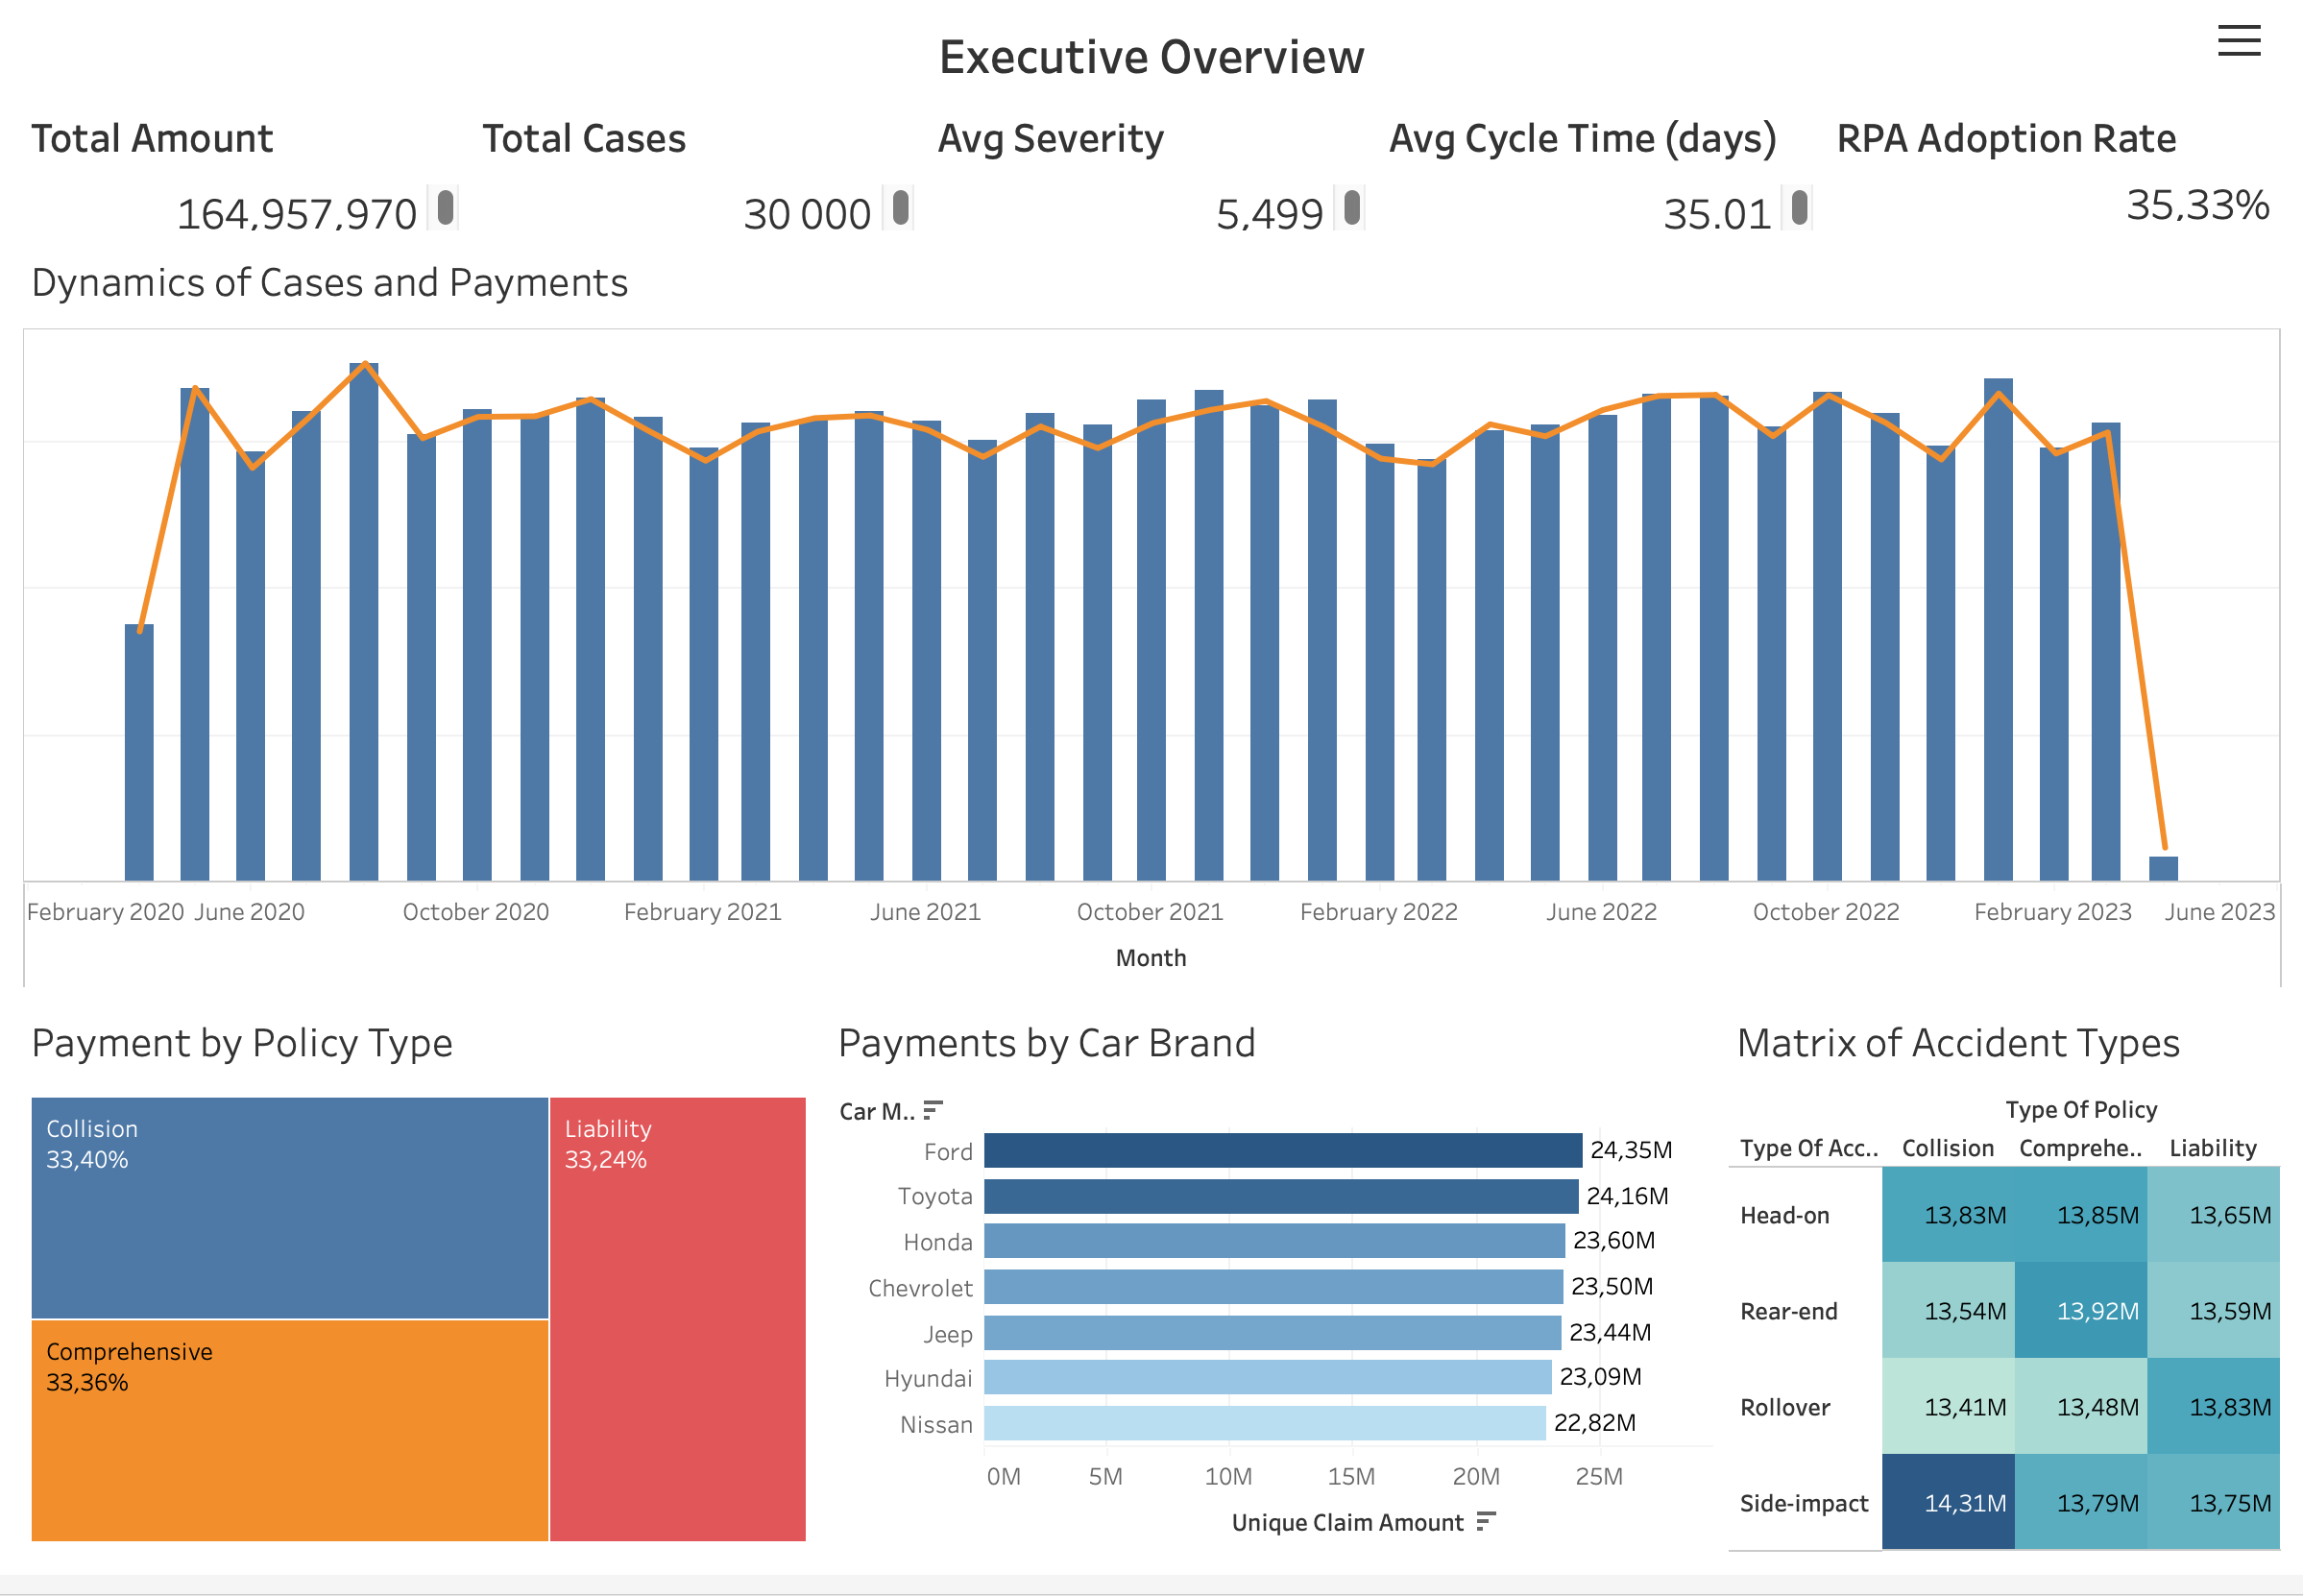

This screenshot's page, from the dashboard's own definition file:
{"tool":"tableau","page":{"name":"Executive Overview","canvas":[1200,820],"ordinal":0},"visuals":[{"type":"title","box":[8,8,1184,41]},{"type":"dashboard-object","box":[1154,9,24,24]},{"type":"filter","title":"Payment by Policy Type","param":"[federated.0374fw910j7fbg14hb0lf022ywgr].[none:timestamp:qk]","box":[1035,28,158,44]},{"type":"worksheet","title":"Total Claimed Amount","mark":"Automatic","box":[8,49,235,75.5]},{"type":"worksheet","title":"Total Cases","mark":"Automatic","box":[243,49,237,75.5]},{"type":"worksheet","title":"Avg Severity","mark":"Automatic","box":[480,49,234.9,75.5]},{"type":"worksheet","title":"Avg Cycle Time","mark":"Automatic","box":[714.9,49,233,75.5]},{"type":"worksheet","title":"RPA Adoption Rate","mark":"Automatic","box":[947.9,49,244.1,75.5]},{"type":"filter","title":"Dynamics of Cases and Payments","param":"[federated.0374fw910j7fbg14hb0lf022ywgr].[none:car_make:nk]","box":[1035,72,158,36.4]},{"type":"filter","title":"Dynamics of Cases and Payments","param":"[federated.0374fw910j7fbg14hb0lf022ywgr].[none:car_model:nk]","box":[1035,108.4,158,36.4]},{"type":"worksheet","title":"Dynamics of Cases and Payments","mark":"Automatic","rows":["case_id","Calculation_3815408212529159"],"cols":["Calculation_3815408207904770"],"box":[8,124.5,1184,395.2]},{"type":"filter","title":"Dynamics of Cases and Payments","param":"[federated.0374fw910j7fbg14hb0lf022ywgr].[none:car_year:qk]","box":[1035,144.8,158,45]},{"type":"filter","title":"Dynamics of Cases and Payments","param":"[federated.0374fw910j7fbg14hb0lf022ywgr].[none:type_of_accident:nk]","box":[1035,189.8,158,36.4]},{"type":"filter","title":"Dynamics of Cases and Payments","param":"[federated.0374fw910j7fbg14hb0lf022ywgr].[none:type_of_policy:nk]","box":[1035,226.2,158,36.4]},{"type":"filter","title":"Dynamics of Cases and Payments","param":"[federated.0374fw910j7fbg14hb0lf022ywgr].[none:user_type:nk]","box":[1035,262.6,158,36.4]},{"type":"worksheet","title":"Payment by Policy Type","mark":"Square","box":[8,519.7,420,292.3]},{"type":"worksheet","title":"Payments by Car Brand","mark":"Automatic","rows":["car_make"],"cols":["Calculation_3815408212529159"],"box":[428,519.7,468,292.3]},{"type":"worksheet","title":"Matrix of Accident Types","mark":"Square","rows":["type_of_accident"],"cols":["type_of_policy"],"box":[895.9,519.7,296.1,292.3]}]}

Visuals, with their boxes in screenshot pixels (x1, y1, x2, y2), scaled from the page's 1200x820 canvas onto the 2303x1596 screenshot:
title: x1=15 y1=15 x2=2288 y2=95
dashboard-object: x1=2215 y1=17 x2=2261 y2=64
"Payment by Policy Type" filter: x1=1986 y1=55 x2=2290 y2=140
"Total Claimed Amount" worksheet: x1=15 y1=95 x2=467 y2=242
"Total Cases" worksheet: x1=467 y1=95 x2=921 y2=242
"Avg Severity" worksheet: x1=921 y1=95 x2=1372 y2=242
"Avg Cycle Time" worksheet: x1=1372 y1=95 x2=1819 y2=242
"RPA Adoption Rate" worksheet: x1=1819 y1=95 x2=2288 y2=242
"Dynamics of Cases and Payments" filter: x1=1986 y1=140 x2=2290 y2=211
"Dynamics of Cases and Payments" filter: x1=1986 y1=211 x2=2290 y2=281
"Dynamics of Cases and Payments" worksheet: x1=15 y1=242 x2=2288 y2=1011
"Dynamics of Cases and Payments" filter: x1=1986 y1=281 x2=2290 y2=370
"Dynamics of Cases and Payments" filter: x1=1986 y1=370 x2=2290 y2=440
"Dynamics of Cases and Payments" filter: x1=1986 y1=440 x2=2290 y2=511
"Dynamics of Cases and Payments" filter: x1=1986 y1=511 x2=2290 y2=582
"Payment by Policy Type" worksheet (Square marks): x1=15 y1=1011 x2=821 y2=1581
"Payments by Car Brand" worksheet: x1=821 y1=1011 x2=1720 y2=1581
"Matrix of Accident Types" worksheet (Square marks): x1=1719 y1=1011 x2=2288 y2=1581
